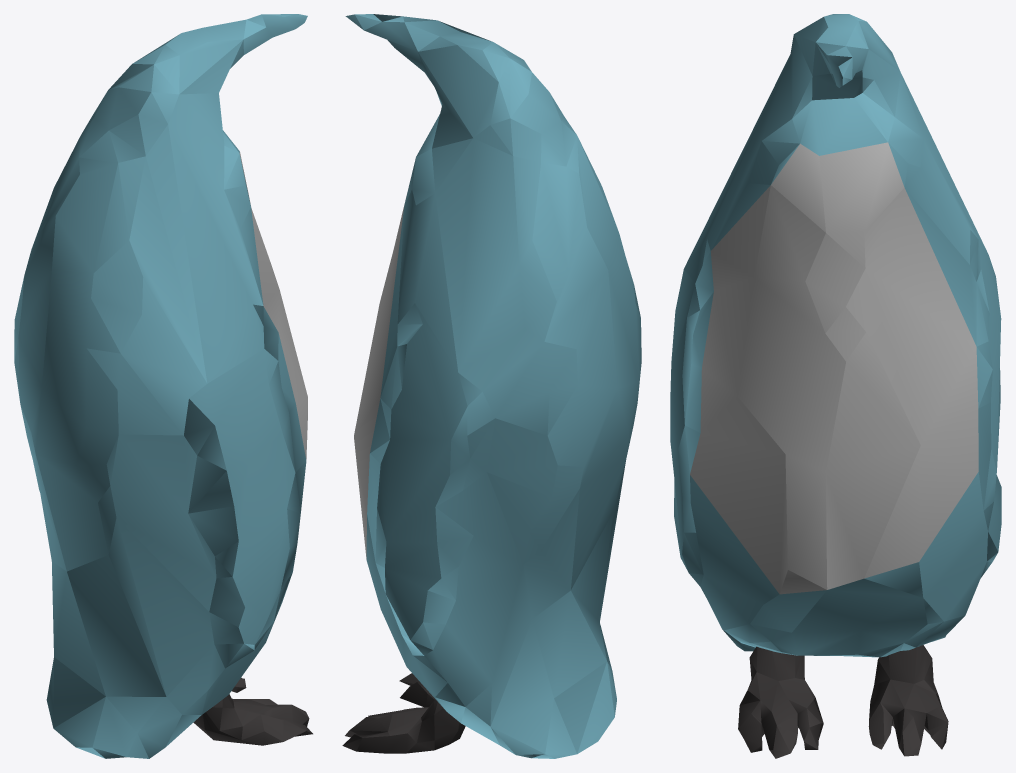
The model's file is pinguin.glb.
3 renders of one model, left to right at view 1: azimuth 30°, elevation 25°; view 2: azimuth 150°, elevation 25°; view 3: azimuth 270°, elevation 25°, orthographic.
Visible parts, largest first — view 1: pinguin; view 2: pinguin; view 3: pinguin.
Boxes of the visible parts, box(x1,y1,x2,y2) form: pinguin: box(14, 14, 312, 758); pinguin: box(342, 14, 641, 758); pinguin: box(670, 14, 1001, 758).
Bounding box in the file's own units: 0.8256 × 2.03 × 0.8709.
